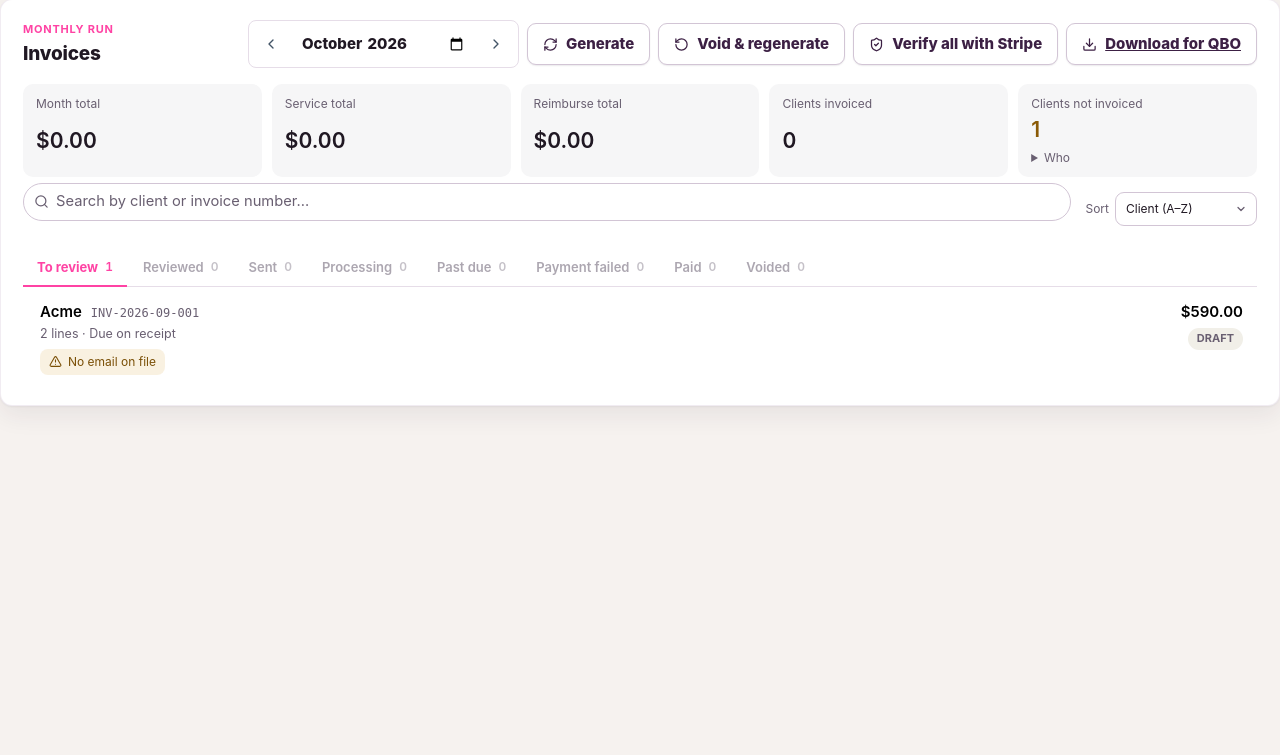
Test case: InvoiceMonthRun — changing the covered dates on an unflagged line › sends the dates she typed and shows the server's new label and dates
The image size is (1280, 755).
Click the text "INV-2026-09-001" at (145, 314), box top-left (91, 305), bottom-right (199, 323)
(page scrolled)
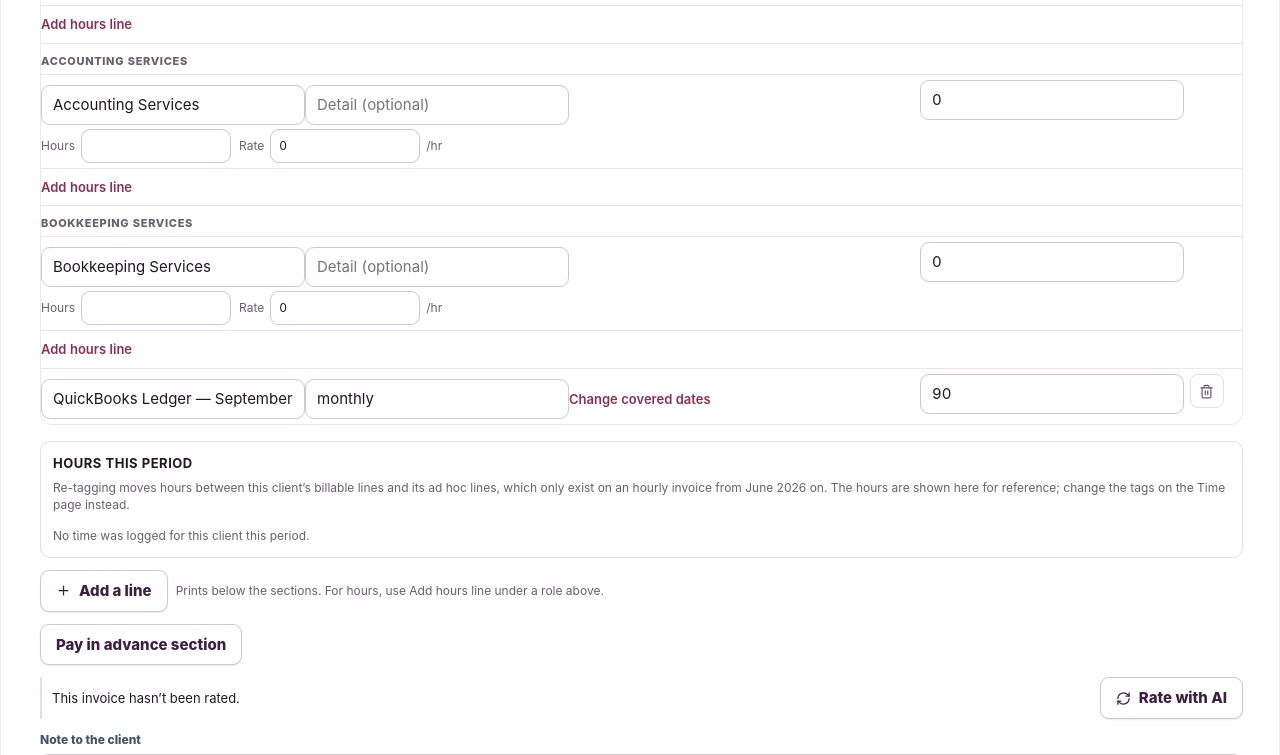
expect the field showing "QuickBooks Ledger — September 13 – October 13, 2026" is shown: met, box top-left (41, 379), bottom-right (305, 419)
Click the button "Change covered dates" at (640, 399), box top-left (569, 390), bottom-right (711, 409)
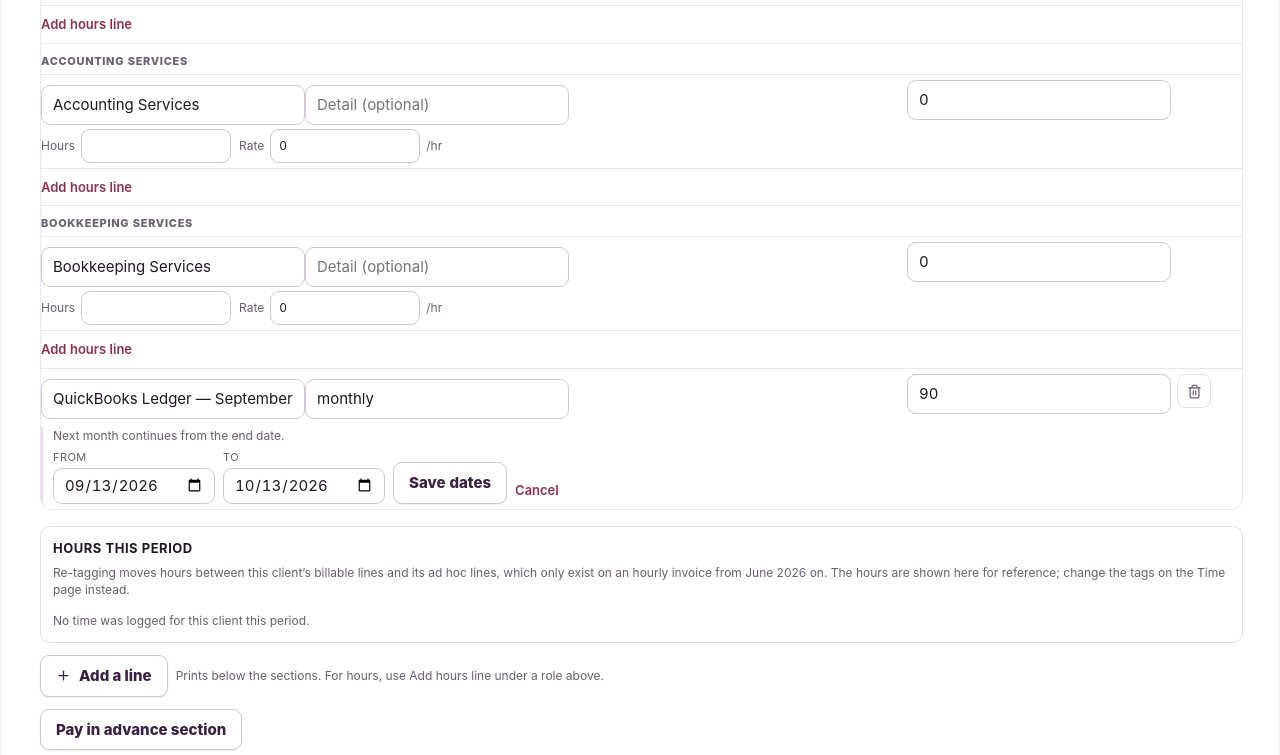
Type "2026-10-13" into the date field named "Covered period start" at (134, 486), box top-left (53, 468), bottom-right (215, 504)
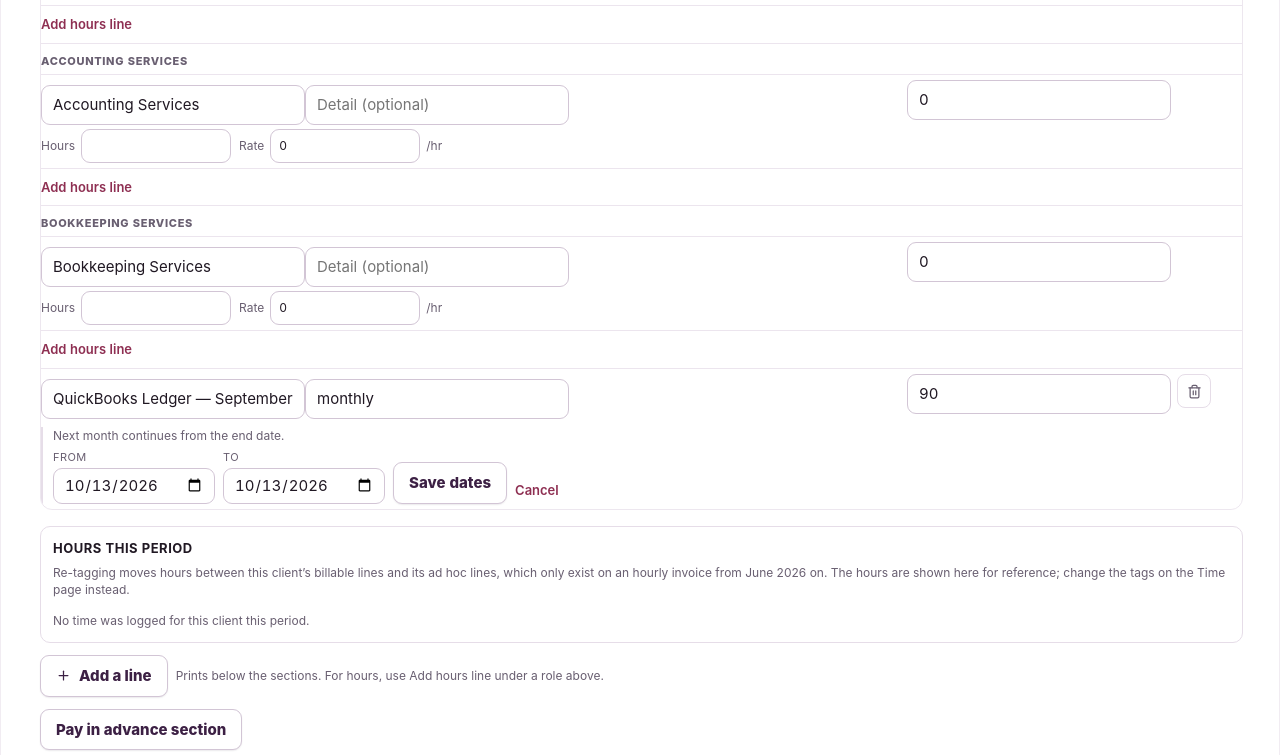
Type "2026-11-13" into the date field named "Covered period end" at (304, 486), box top-left (223, 468), bottom-right (385, 504)
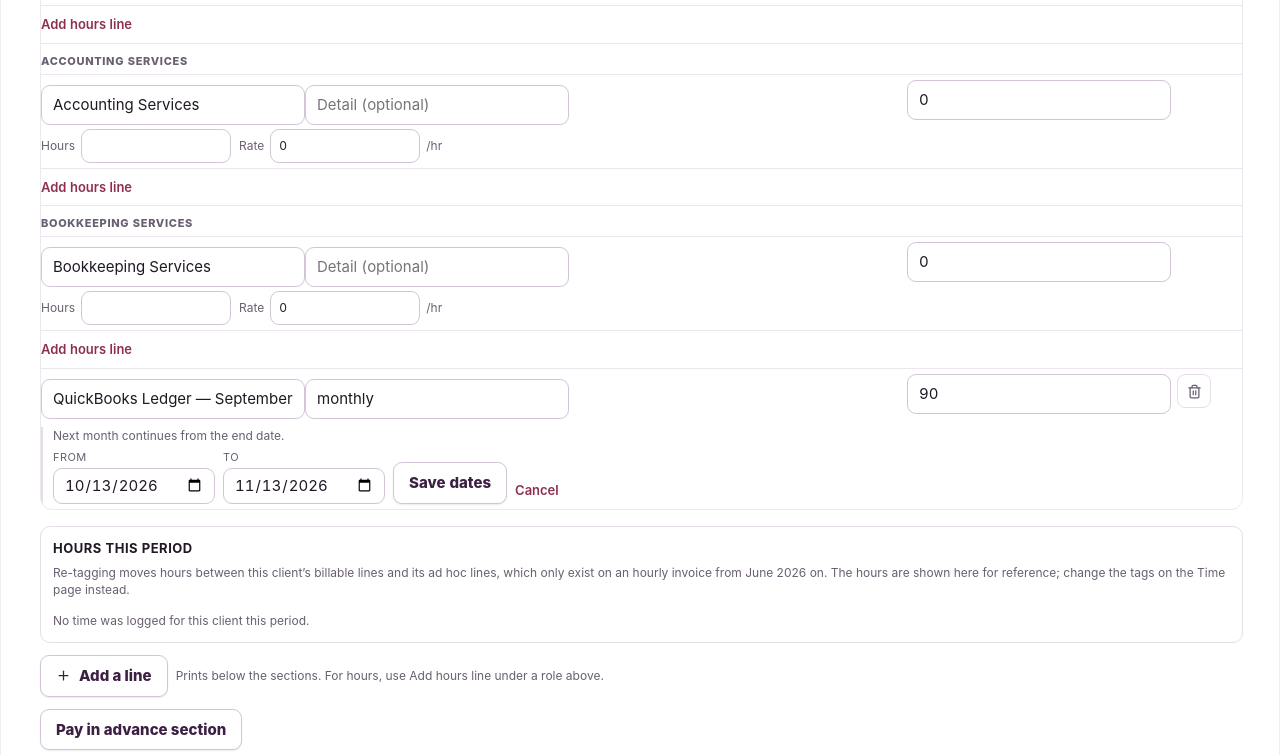
Click the button "Save dates" at (450, 483), box top-left (393, 462), bottom-right (507, 504)
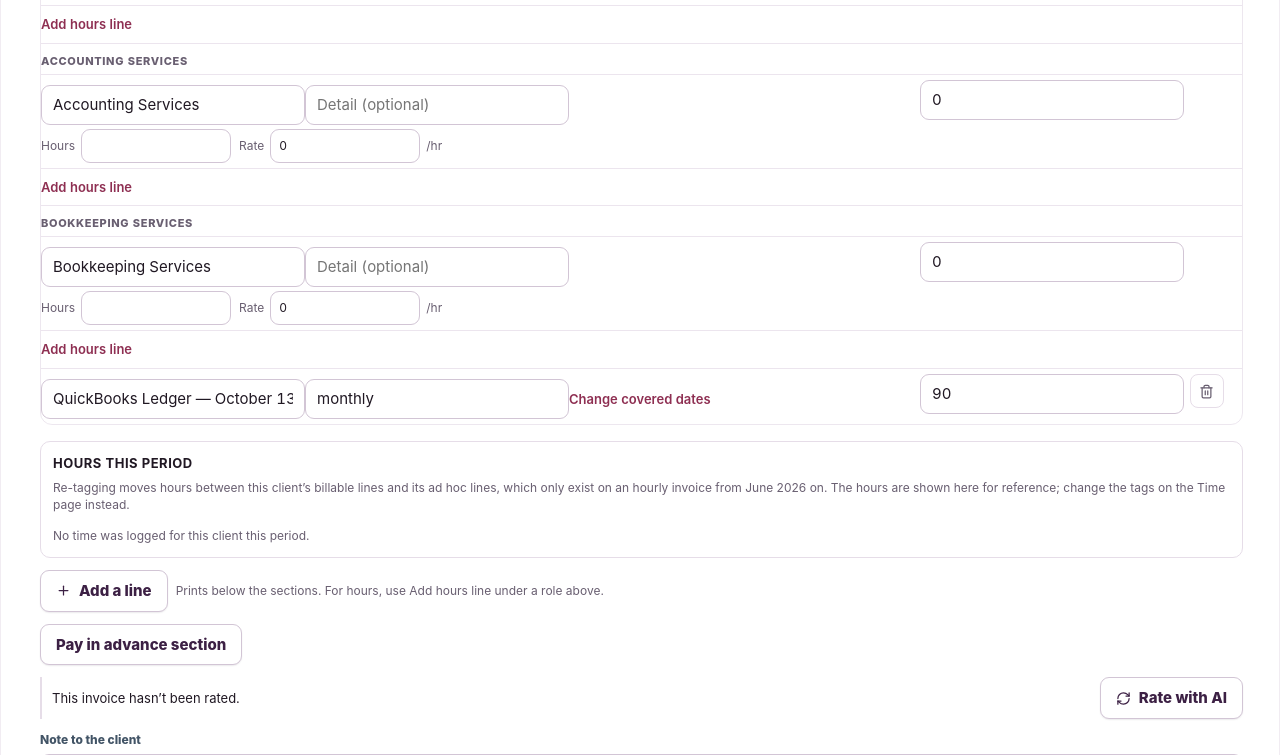
expect the field showing "QuickBooks Ledger — October 13 – November 13, 2026" is shown: met, box top-left (41, 379), bottom-right (305, 419)
Click the button "Change covered dates" at (640, 399), box top-left (569, 390), bottom-right (711, 409)
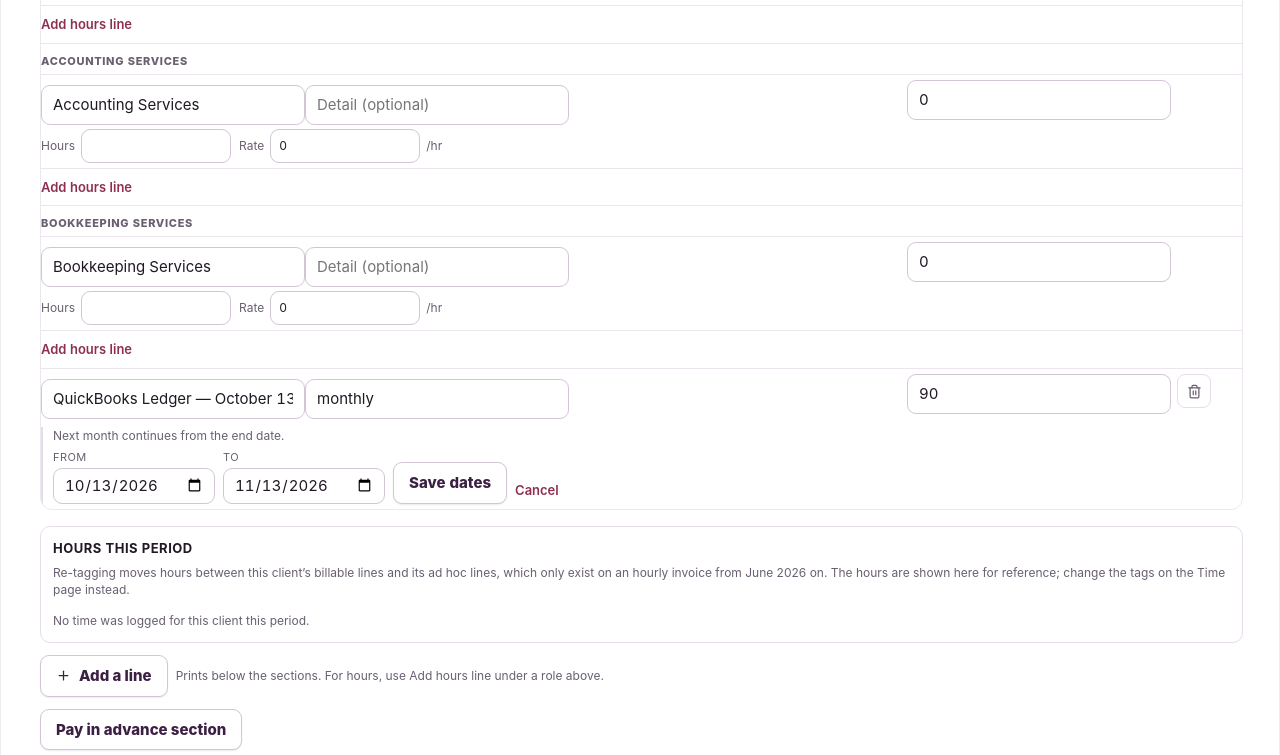
expect the date field named "Covered period start" holds "2026-10-13": met, box top-left (53, 468), bottom-right (215, 504)
expect the date field named "Covered period end" holds "2026-11-13": met, box top-left (223, 468), bottom-right (385, 504)
